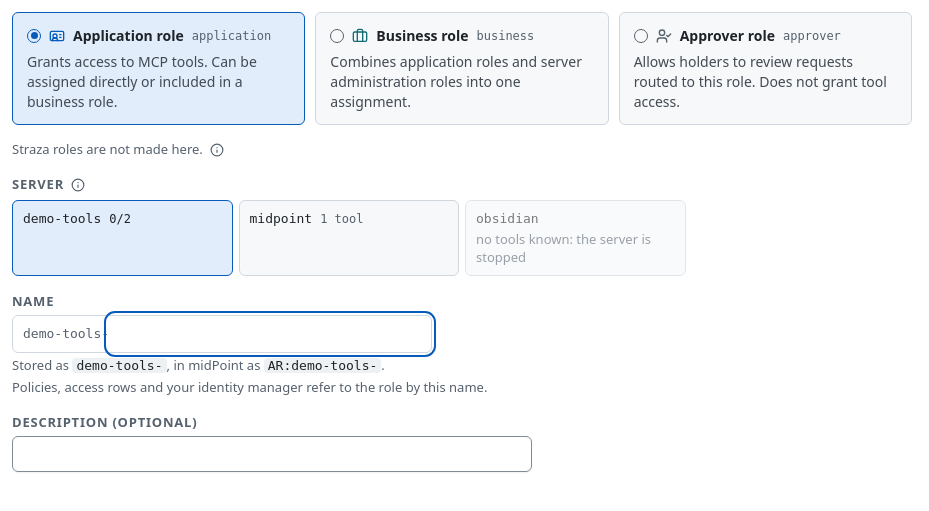
Scenario: the first step of an application role › refuses a stored name a role already has
The width and height of the screenshot is (929, 511).
Type "readers" into the field named "role name suffix" at (270, 334), box [109, 316, 431, 352]
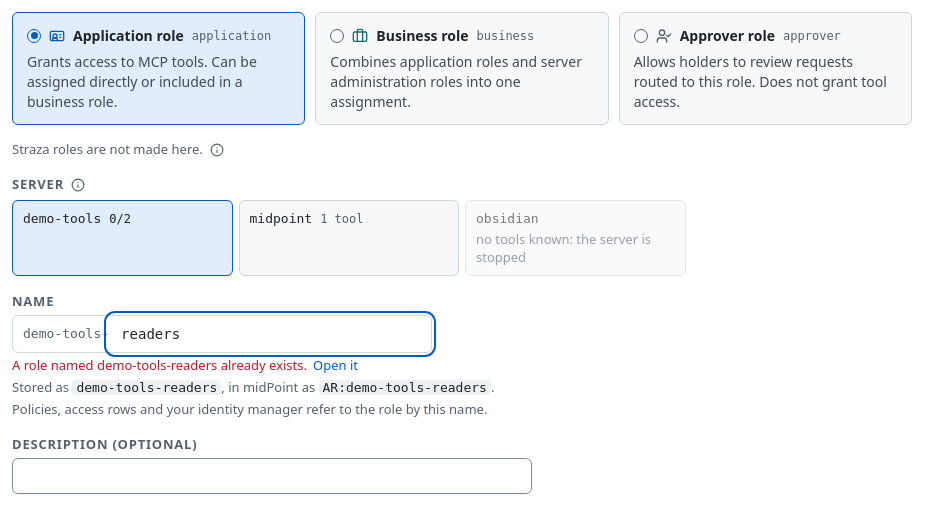
Result: the element showing "A role named demo-tools-readers already exists. Open it" reads "A role named demo-tools-readers already exists. Open it" at [12, 356, 358, 375]
